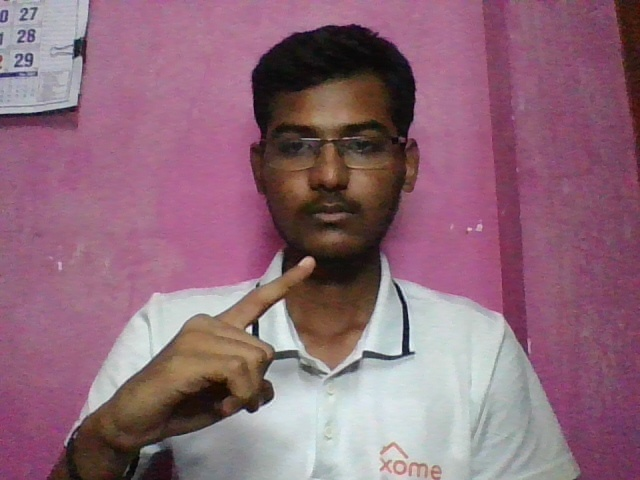Hello: (65, 247, 320, 480)
